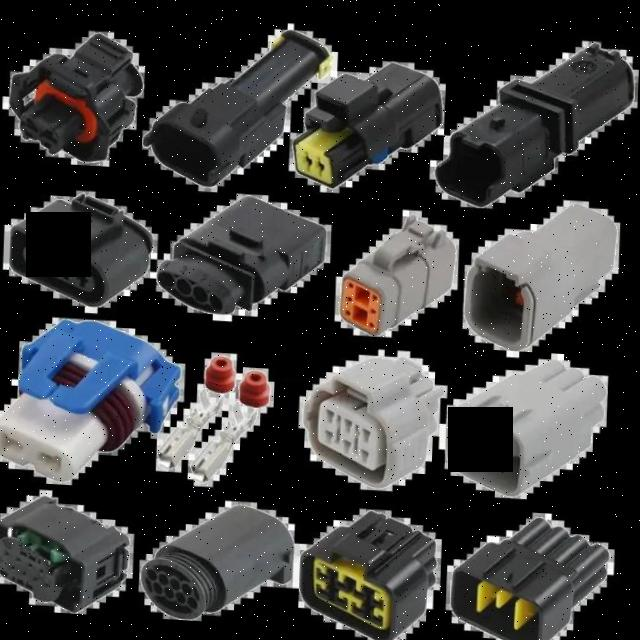connector: (428, 325, 633, 510), (324, 200, 477, 349)
